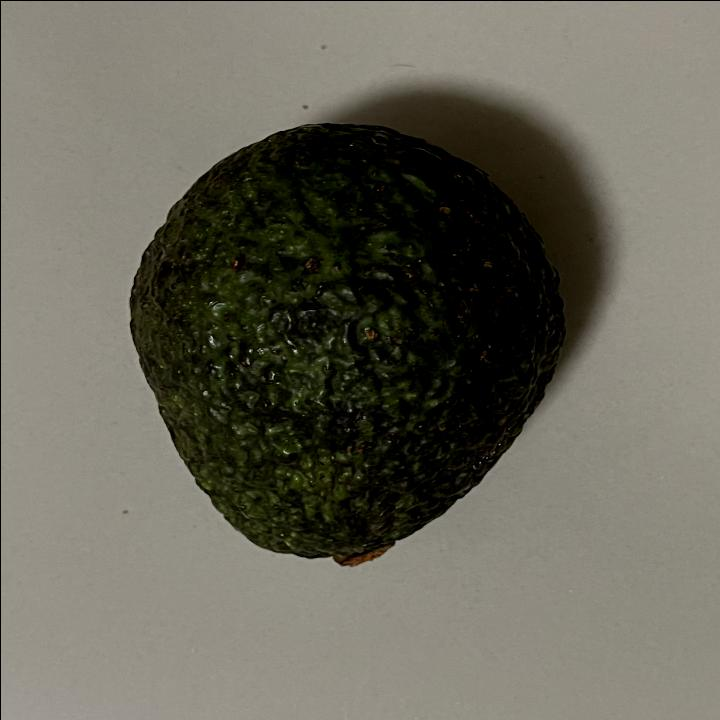Level1: (114, 114, 582, 580)
